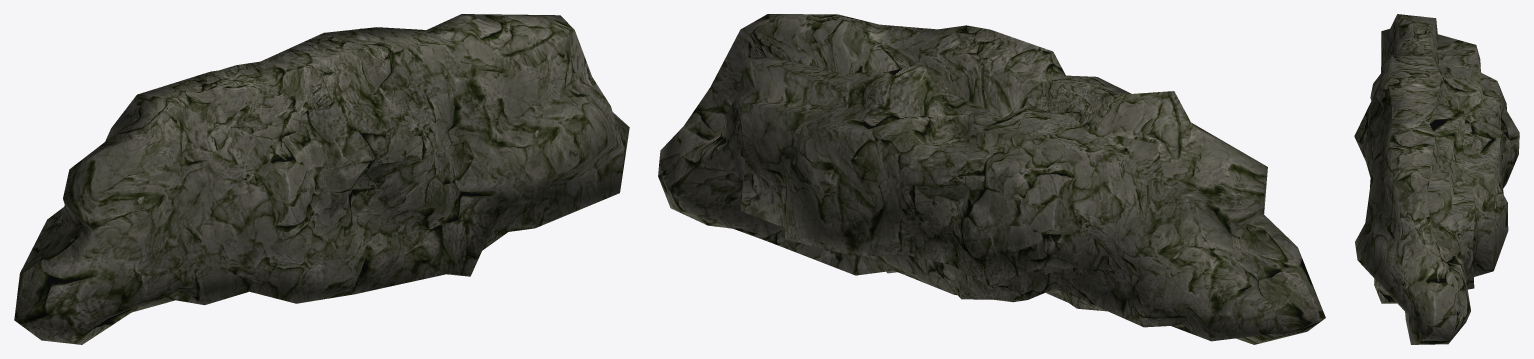
File: TI_Cliff_03_j_LOD_01.fbx
3 views of the same model, side by side, from view 1: azimuth 30°, elevation 25°; view 2: azimuth 150°, elevation 25°; view 3: azimuth 270°, elevation 25° (orthographic). The views are drawn at different scales.
Visible parts, largest first — view 1: TI_Cliff_03_j_LOD_01; view 2: TI_Cliff_03_j_LOD_01; view 3: TI_Cliff_03_j_LOD_01.
Part boxes in pixels (x1,y1,x2,y2): TI_Cliff_03_j_LOD_01: (14, 14, 629, 344); TI_Cliff_03_j_LOD_01: (658, 14, 1325, 344); TI_Cliff_03_j_LOD_01: (1354, 14, 1519, 344).
Size of the model in its own units: 9.88 by 3.79 by 2.9.
